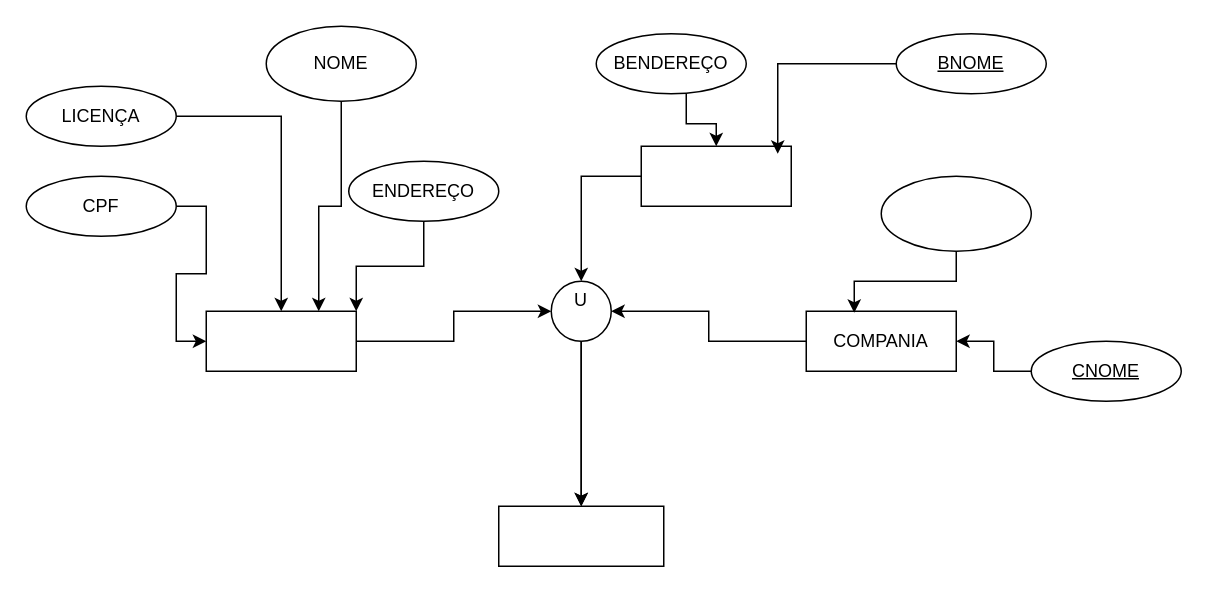
Image size: 1208x593. Some labels were removed from this diagram. Each missing label, with the centre of its shape:
"BANCO" goes at pixel 715 175.
"CENDEREÇO" goes at pixel 955 213.
"PESSOA" goes at pixel 280 340.
"PROPRIETÁRIO" goes at pixel 580 535.
